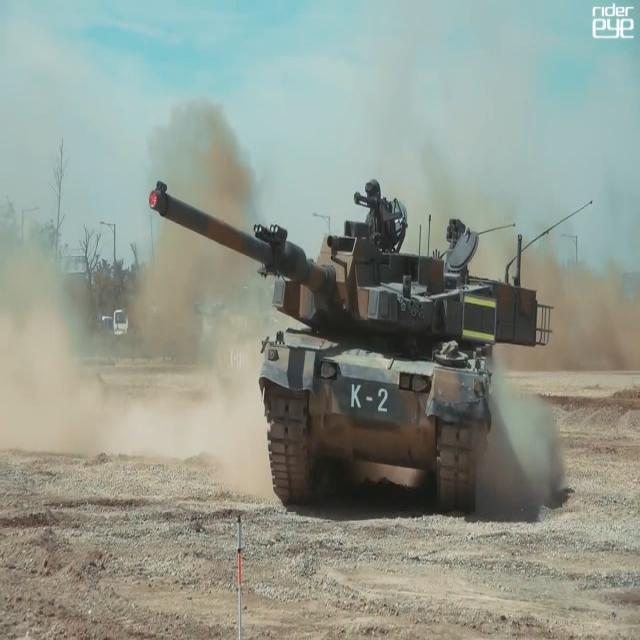korea tank: (148, 176, 554, 515)
